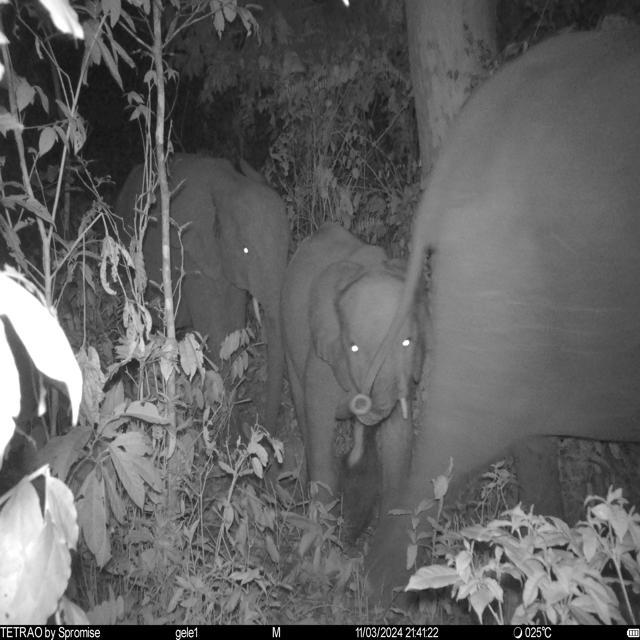calf: (109, 150, 292, 456), (281, 222, 428, 536)
ear: (306, 258, 364, 394), (166, 157, 226, 285), (235, 156, 268, 180)
elephant: (337, 24, 640, 616)
tusk: (250, 294, 264, 327), (397, 396, 411, 420)
